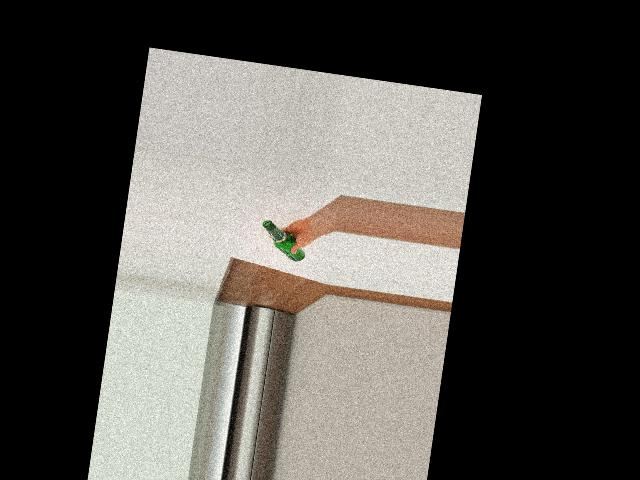beer: (257, 218, 309, 262)
